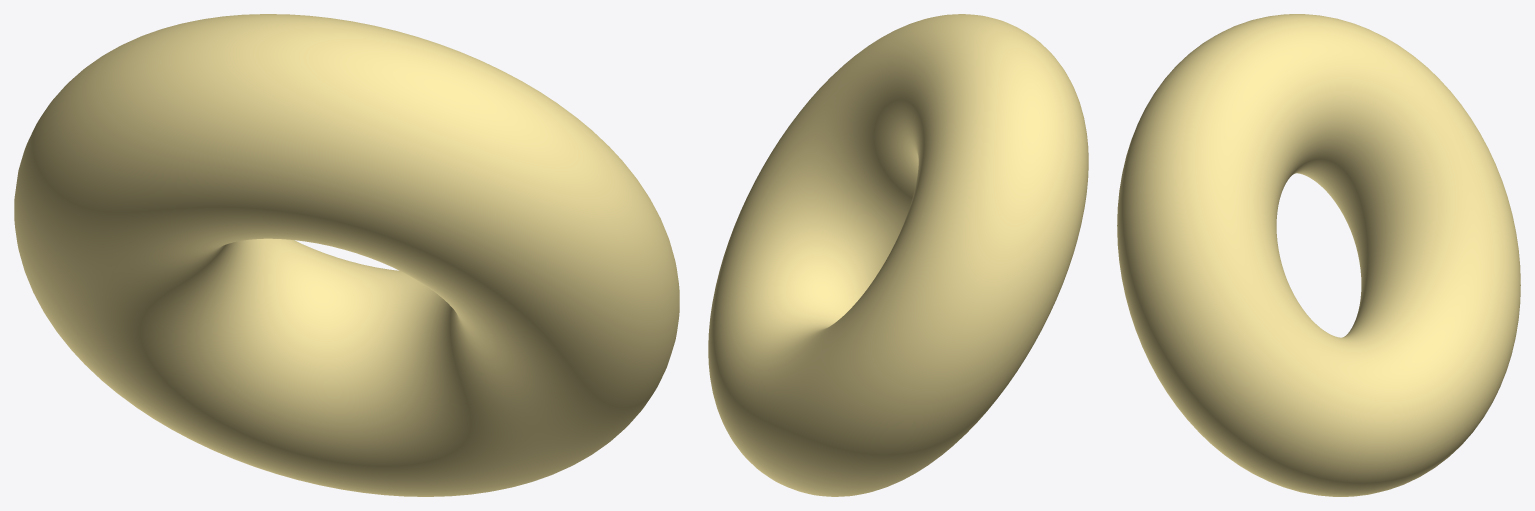
Rendered from Sem título.glb.
3 views of the same model, side by side, from view 1: azimuth 30°, elevation 25°; view 2: azimuth 150°, elevation 25°; view 3: azimuth 270°, elevation 25° (orthographic). The views are drawn at different scales.
Visible parts, largest first — view 1: mesh_id27; view 2: mesh_id27; view 3: mesh_id27.
Boxes of the visible parts, x1,y1,x2,y2 form: mesh_id27: (14,14,679,496); mesh_id27: (708,14,1088,496); mesh_id27: (1117,14,1520,496).
Bounding box in the file's own units: 0.2167 × 0.2218 × 0.2051.
1 material, 1 textured.
